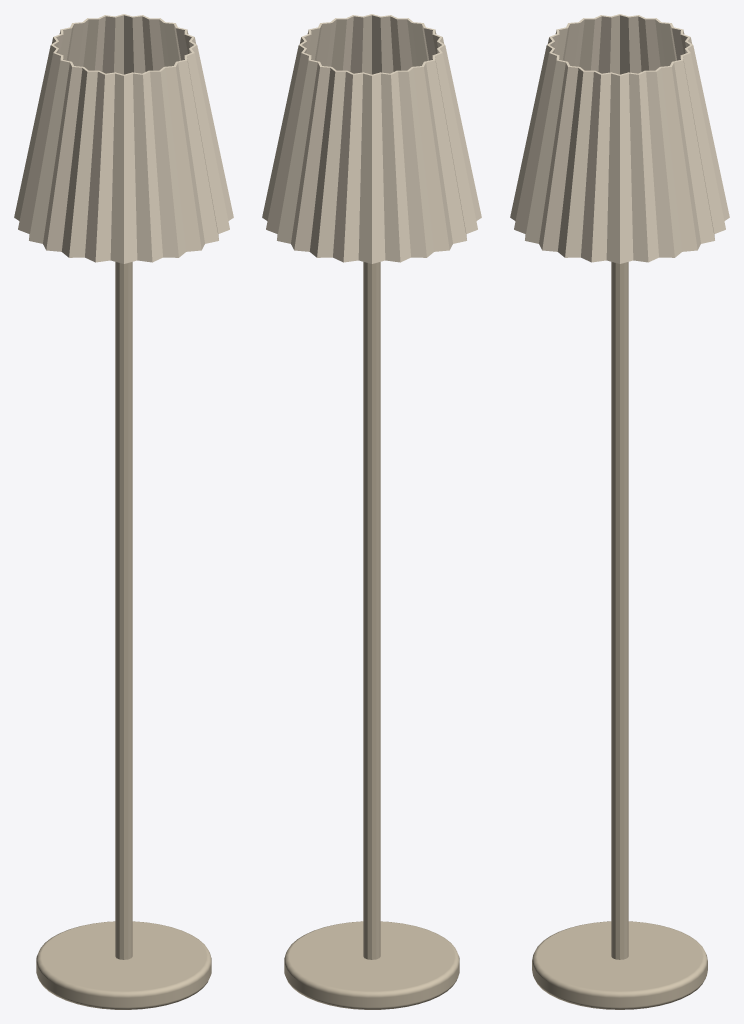
The model's file is floor_lamp_pleated.glb.
3 views of the same model, side by side, from view 1: azimuth 30°, elevation 25°; view 2: azimuth 150°, elevation 25°; view 3: azimuth 270°, elevation 25° (orthographic).
Visible parts, largest first — view 1: floor_lamp_pleated; view 2: floor_lamp_pleated; view 3: floor_lamp_pleated.
Boxes of the visible parts, x1,y1,x2,y2 form: floor_lamp_pleated: (14,14,233,1009); floor_lamp_pleated: (262,14,481,1009); floor_lamp_pleated: (510,14,729,1009).
Size of the model in its own units: 0.3 by 1.4 by 0.3.
